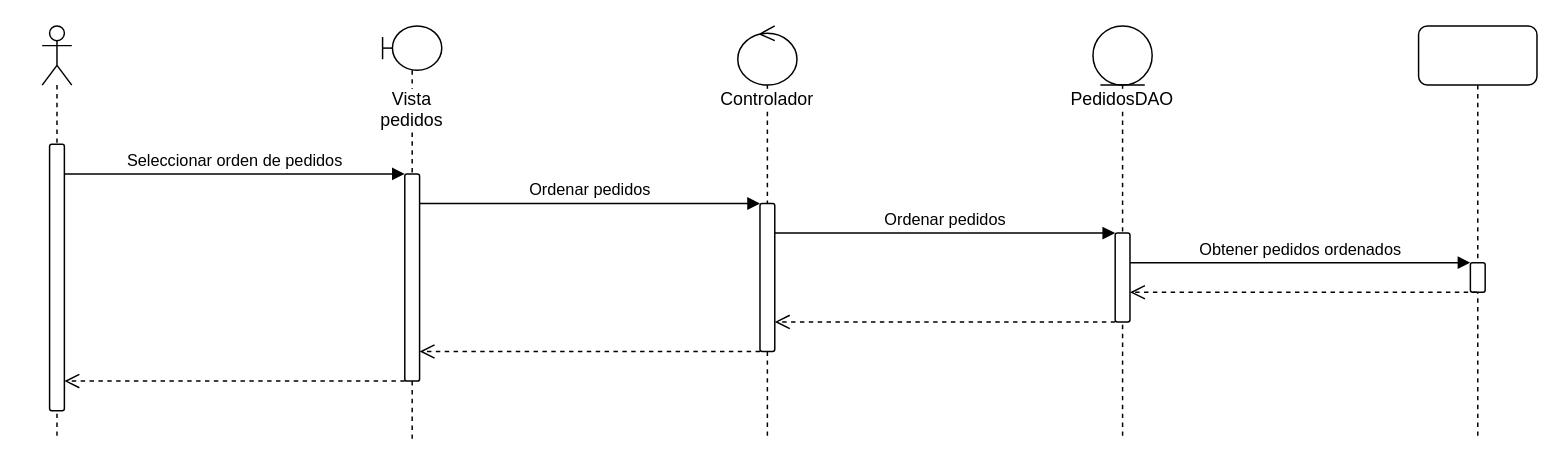
This 1563x466 diagram has some shape labels left out. Each missing label, with the box of its shape:
DB: (1417, 24, 1537, 440)
Jugador: (41, 24, 72, 440)
